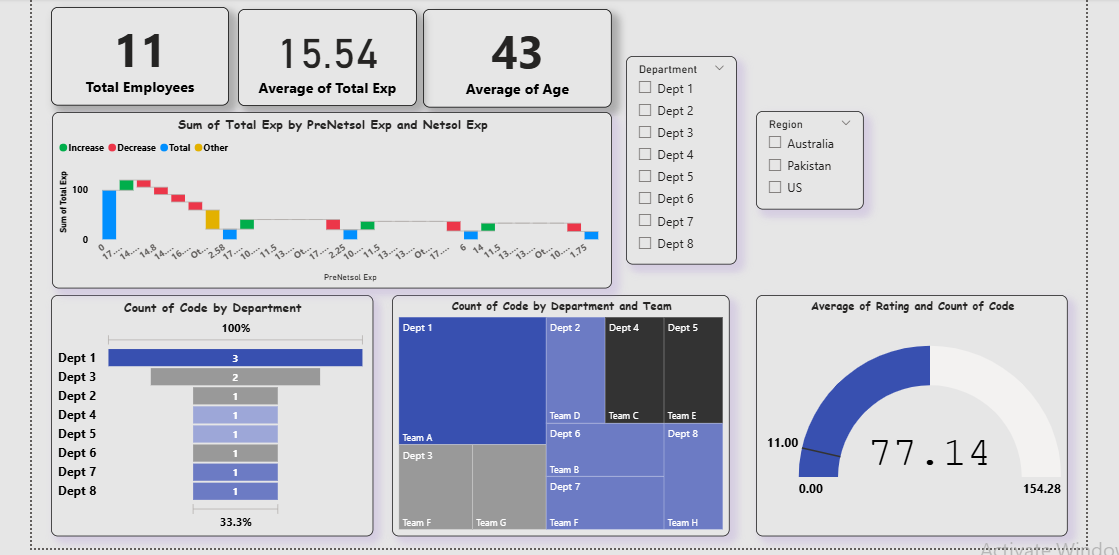

The page's visual inventory and layout, read from the dashboard file:
{"tool":"powerbi","page":{"name":"Advance Insights","canvas":[1380,720],"ordinal":2},"visuals":[{"type":"card","fields":{"Values":["HR-data.Total Employees"]},"box":[24.9,11.8,232.9,128.9],"z":0,"group":"g1"},{"type":"group","id":"g1","title":"Group 1","box":[24.9,11.8,734.3,130.9],"z":0},{"type":"card","fields":{"Values":["HR-data.Age"]},"box":[511.8,13.8,247.4,128.9],"z":1000,"group":"g1"},{"type":"funnel","fields":{"Category":["HR-data.Department"],"Y":["HR-data.Code"]},"box":[25,389.4,421.7,315.9],"z":1000},{"type":"treemap","fields":{"Group":["HR-data.Department"],"Values":["HR-data.Code"],"Details":["HR-data.Team"]},"box":[471.7,389.4,442.3,315.9],"z":2000},{"type":"card","fields":{"Values":["HR-data.Total Exp"]},"box":[269.7,13.8,234.2,126.9],"z":3000,"group":"g1"},{"type":"gauge","fields":{"Y":["HR-data.Rating"],"TargetValue":["HR-data.Code"]},"box":[947.8,389.4,408.5,315.9],"z":3000},{"type":"slicer","fields":{"Values":["HR-data.Region"]},"box":[947.8,148.4,141.1,129.3],"z":4000},{"type":"slicer","fields":{"Values":["HR-data.Department"]},"box":[777.3,76.4,145.5,273.3],"z":5000},{"type":"waterfallChart","fields":{"Category":["HR-data.PreNetsol Exp"],"Breakdown":["HR-data.Netsol Exp"],"Y":["HR-data.Total Exp"]},"box":[26.4,149.9,733.2,230.7],"z":6000}]}

Visuals, with their boxes in screenshot pixels (x1, y1, x2, y2):
card - HR-data.Total Employees: bbox=[51, 6, 228, 104]
"Group 1" group: bbox=[51, 6, 608, 105]
card - HR-data.Age: bbox=[420, 8, 608, 105]
funnel - HR-data.Department x HR-data.Code: bbox=[51, 292, 371, 532]
treemap - HR-data.Department x HR-data.Code: bbox=[390, 292, 725, 532]
card - HR-data.Total Exp: bbox=[237, 8, 414, 104]
gauge - HR-data.Rating x HR-data.Code: bbox=[751, 292, 1061, 532]
slicer - HR-data.Region: bbox=[751, 110, 858, 208]
slicer - HR-data.Department: bbox=[622, 55, 732, 262]
waterfallChart - HR-data.PreNetsol Exp x HR-data.Netsol Exp: bbox=[52, 111, 608, 286]
